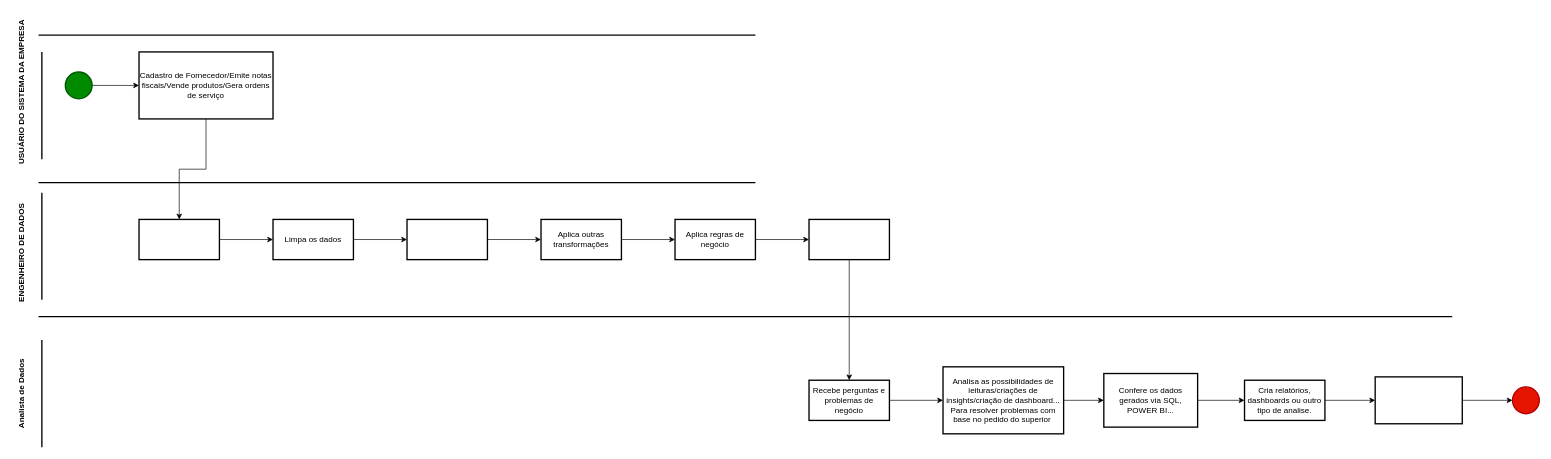
This 1551x459 diagram has some shape labels left out. The centre of each missing label's shape, as x and y in pixels:
"Deploy no banco homologado e produção" belongs at point 849,239.
"Entrega ao emissário responsável pela pergunta ou problema de negócio" belongs at point 1418,400.
"Normaliza valores" belongs at point 447,239.
"Recebe os dados atráves do banco de dados" belongs at point 179,239.
